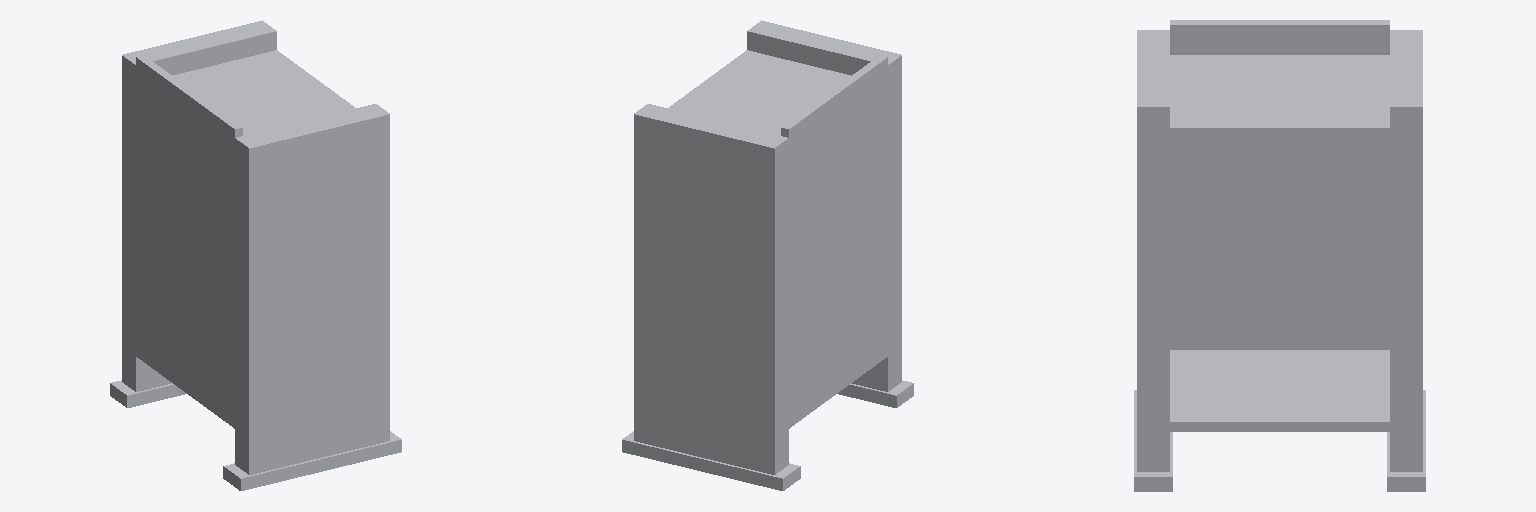
robot.urdf — two_layer_supporter:
<robot name="two_layer_supporter">
  <material name="alu">
    <color rgba="0.8 0.81 0.83 1" />
    </material>
  <link name="base">
    <inertial>
      <origin xyz="0 0 0.165" rpy="0 0 0" />
      <mass value="2" />
      <inertia ixx="0.026217" ixy="0" ixz="0" iyy="0.022417" iyz="0" izz="0.012333" />
      </inertial>
    <visual name="foot_p">
      <origin xyz="0 0.0975 0.006" rpy="0 0 0" />
      <geometry>
        <box size="0.16 0.03 0.012" />
        </geometry>
      <material name="alu" />
      </visual>
    <visual name="post_p">
      <origin xyz="0 0.0975 0.167" rpy="0 0 0" />
      <geometry>
        <box size="0.14 0.025 0.31" />
        </geometry>
      <material name="alu" />
      </visual>
    <visual name="foot_n">
      <origin xyz="0 -0.0975 0.006" rpy="0 0 0" />
      <geometry>
        <box size="0.16 0.03 0.012" />
        </geometry>
      <material name="alu" />
      </visual>
    <visual name="post_n">
      <origin xyz="0 -0.0975 0.167" rpy="0 0 0" />
      <geometry>
        <box size="0.14 0.025 0.31" />
        </geometry>
      <material name="alu" />
      </visual>
    <visual name="shelf_lower">
      <origin xyz="0 0 0.05" rpy="0 0 0" />
      <geometry>
        <box size="0.14 0.17 0.008" />
        </geometry>
      <material name="alu" />
      </visual>
    <visual name="shelf_upper">
      <origin xyz="0 0 0.3" rpy="0 0 0" />
      <geometry>
        <box size="0.14 0.17 0.008" />
        </geometry>
      <material name="alu" />
      </visual>
    <visual name="back_plate">
      <origin xyz="-0.066 0 0.19" rpy="0 0 0" />
      <geometry>
        <box size="0.008 0.17 0.28" />
        </geometry>
      <material name="alu" />
      </visual>
    <collision name="foot_p">
      <origin xyz="0 0.0975 0.006" rpy="0 0 0" />
      <geometry>
        <box size="0.16 0.03 0.012" />
        </geometry>
      </collision>
    <collision name="post_p">
      <origin xyz="0 0.0975 0.167" rpy="0 0 0" />
      <geometry>
        <box size="0.14 0.025 0.31" />
        </geometry>
      </collision>
    <collision name="foot_n">
      <origin xyz="0 -0.0975 0.006" rpy="0 0 0" />
      <geometry>
        <box size="0.16 0.03 0.012" />
        </geometry>
      </collision>
    <collision name="post_n">
      <origin xyz="0 -0.0975 0.167" rpy="0 0 0" />
      <geometry>
        <box size="0.14 0.025 0.31" />
        </geometry>
      </collision>
    <collision name="shelf_lower">
      <origin xyz="0 0 0.05" rpy="0 0 0" />
      <geometry>
        <box size="0.14 0.17 0.008" />
        </geometry>
      </collision>
    <collision name="shelf_upper">
      <origin xyz="0 0 0.3" rpy="0 0 0" />
      <geometry>
        <box size="0.14 0.17 0.008" />
        </geometry>
      </collision>
    <collision name="back_plate">
      <origin xyz="-0.066 0 0.19" rpy="0 0 0" />
      <geometry>
        <box size="0.008 0.17 0.28" />
        </geometry>
      </collision>
    </link>
  </robot>

--- Render facts (derived) ---
Views: 3 orthographic renders of the robot side by side, from view 1: azimuth 30°, elevation 25°; view 2: azimuth 150°, elevation 25°; view 3: azimuth 270°, elevation 25°.
Model two_layer_supporter with 1 links and 0 joints (none), rooted at base, posed all joints at 0.
Links seen in each view (by area): view 1: base; view 2: base; view 3: base.
Link boxes in pixels (left/top/right/bottom): base: left=110, top=20, right=401, bottom=490; base: left=622, top=20, right=913, bottom=490; base: left=1134, top=20, right=1425, bottom=491.
Size in the robot's own frame: 0.16 by 0.225 by 0.33 metres.
Geometry: primitives only (box / cylinder / sphere), no mesh files.
